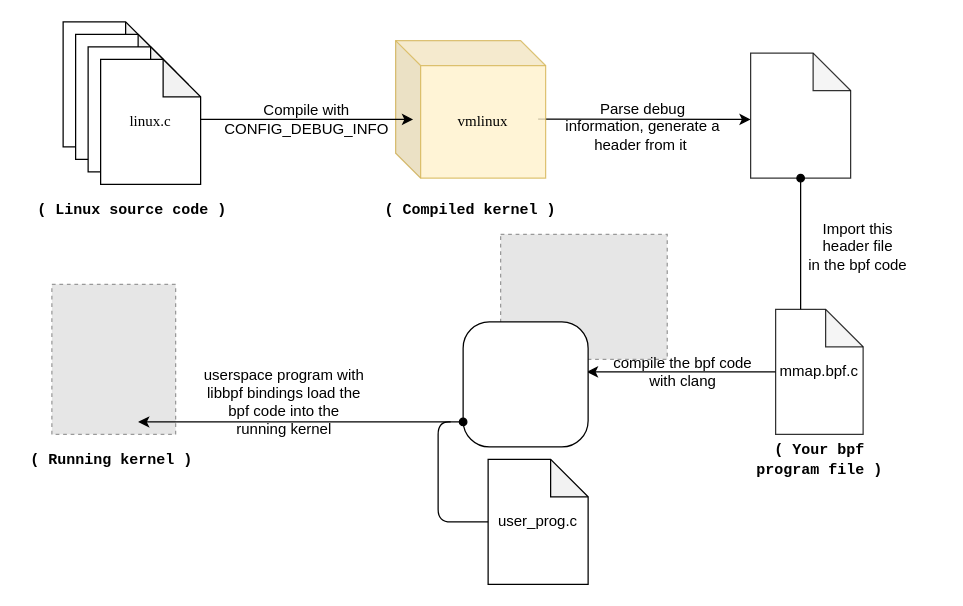
Image size: 963x606. Some labels were removed from this diagram. Grey dashed boxes stand in for pictures. Each missing label, with the centre of its shape:
mmap.bpf.o: point (525, 384)
vmlinux.h: point (800, 115)
